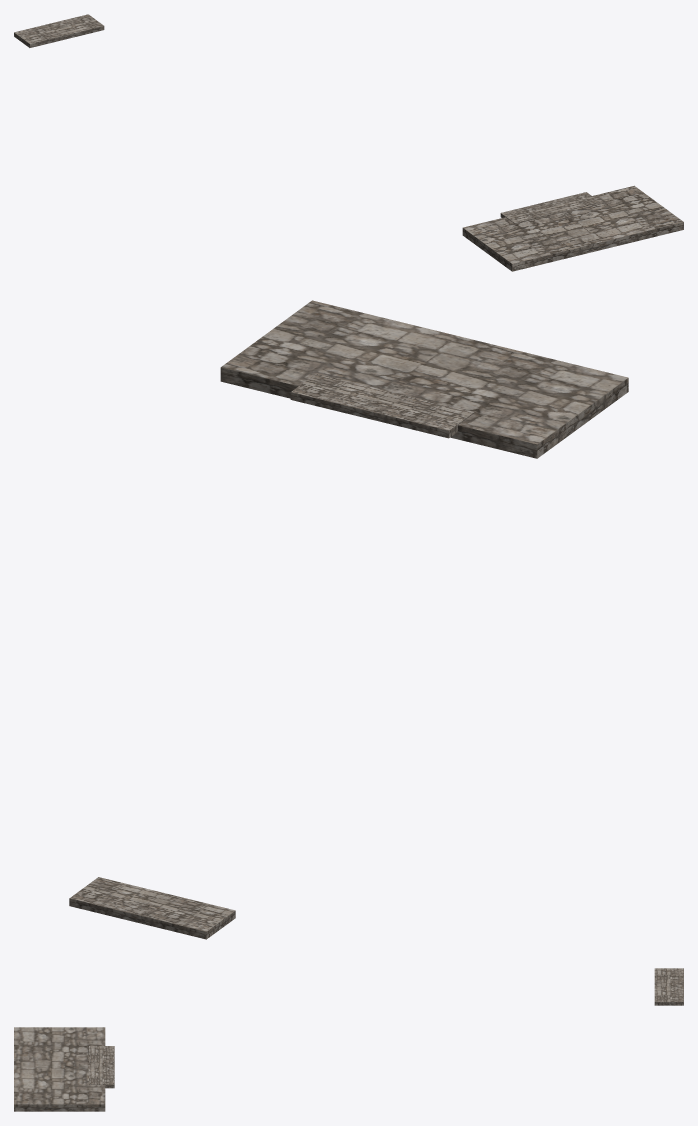
The model's file is BW_Inn01_EntranceStone.fbx.
3 renders of one model, top to bottom at view 1: azimuth 30°, elevation 25°; view 2: azimuth 150°, elevation 25°; view 3: azimuth 270°, elevation 25°, orthographic. The views are drawn at different scales.
Parts seen in each view (by area): view 1: BW_Inn01_EntranceStone; view 2: BW_Inn01_EntranceStone; view 3: BW_Inn01_EntranceStone.
Part boxes in pixels (box(x1,y1,x2,y2)): BW_Inn01_EntranceStone: box(14, 14, 683, 271); BW_Inn01_EntranceStone: box(69, 300, 628, 939); BW_Inn01_EntranceStone: box(14, 968, 683, 1111).
Size of the model in its own units: 5.35 by 0.14 by 11.
